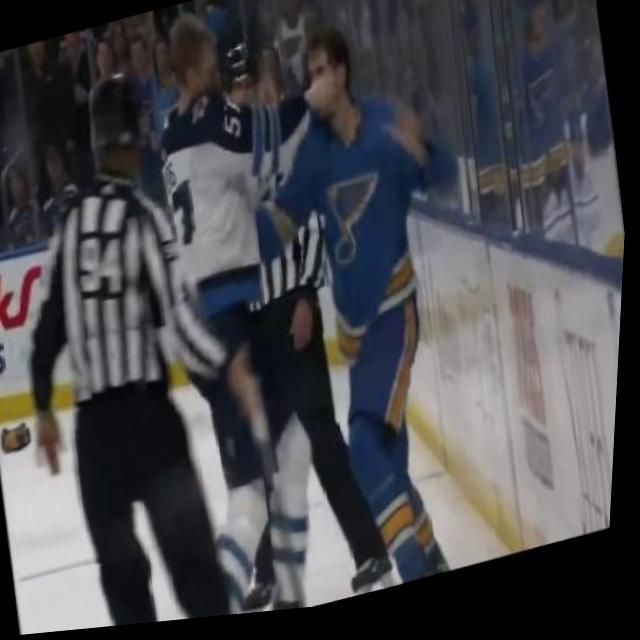fight: (120, 0, 497, 629)
